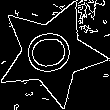O_E: (21, 27, 81, 79)
